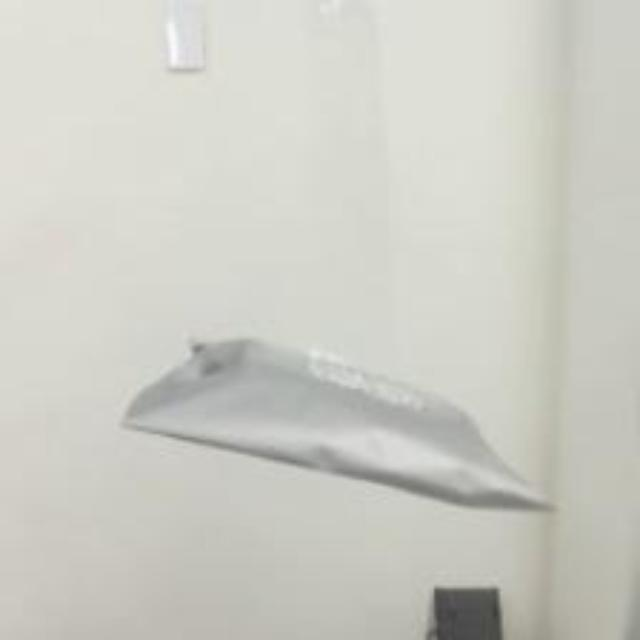mailer: (116, 329, 565, 513)
